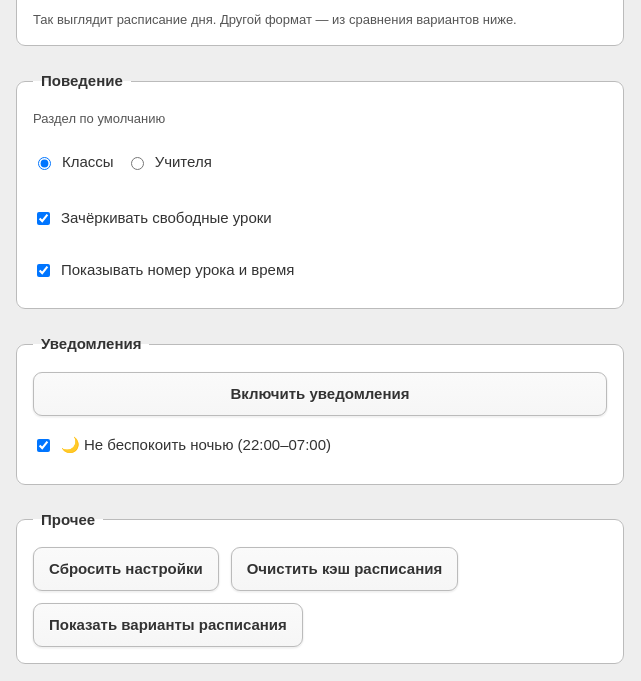
Settings screen › enables push for the saved class with the share URL
The width and height of the screenshot is (641, 681).
(page scrolled)
Click the button "Включить уведомления".
click(320, 394)  # box [33,372,607,416]
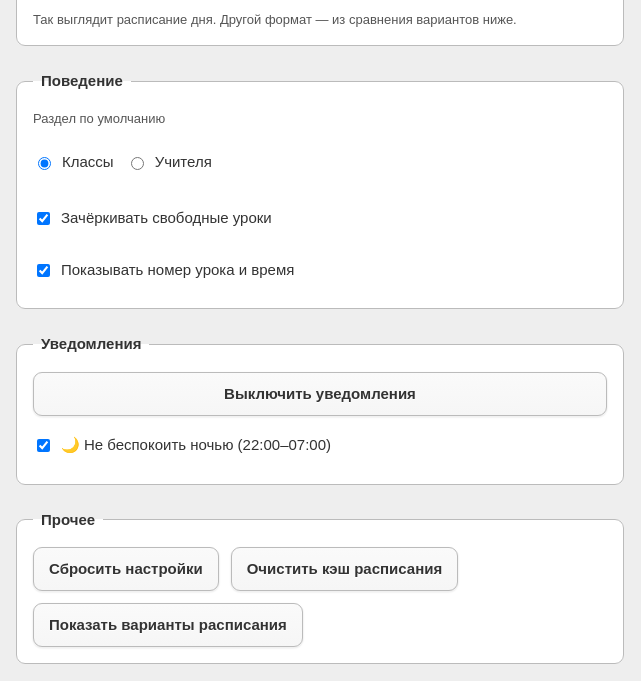
Expected: the button "Выключить уведомления" is shown, [33,372,607,416]
